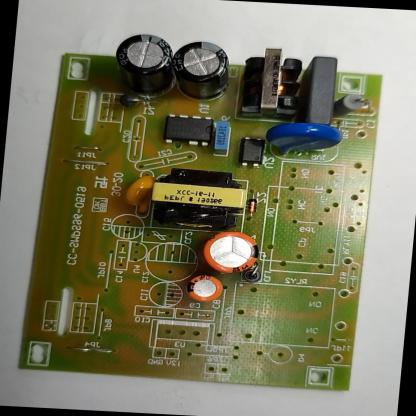Cap1: (202, 228, 262, 278)
Cap2: (187, 274, 222, 304)
Cap3: (170, 41, 232, 102)
Cap4: (113, 32, 176, 95)
MOSFET: (164, 113, 212, 145)
Mov: (263, 121, 349, 158)
Resistor: (333, 91, 370, 121)
Transformer: (148, 166, 251, 228), (236, 45, 307, 122)
